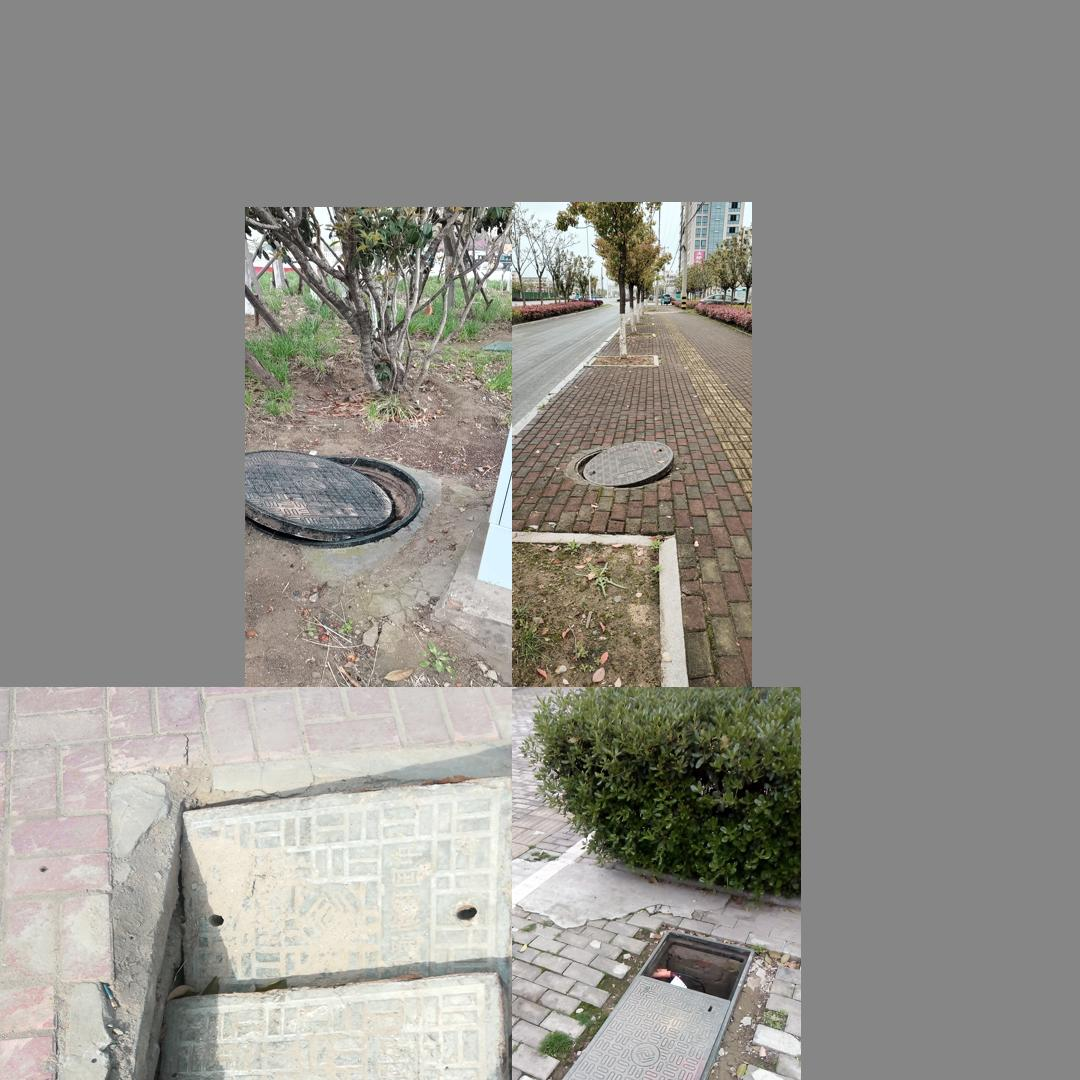uncovered: (83, 759, 505, 1080), (524, 936, 754, 1080), (245, 449, 423, 548), (565, 441, 676, 489)
